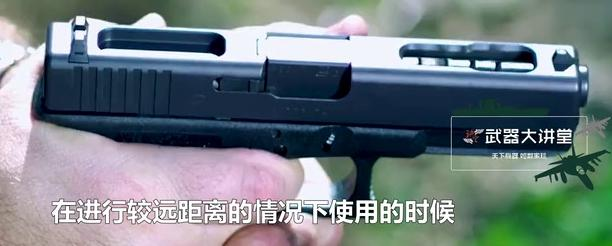gun: (1, 1, 612, 246)
